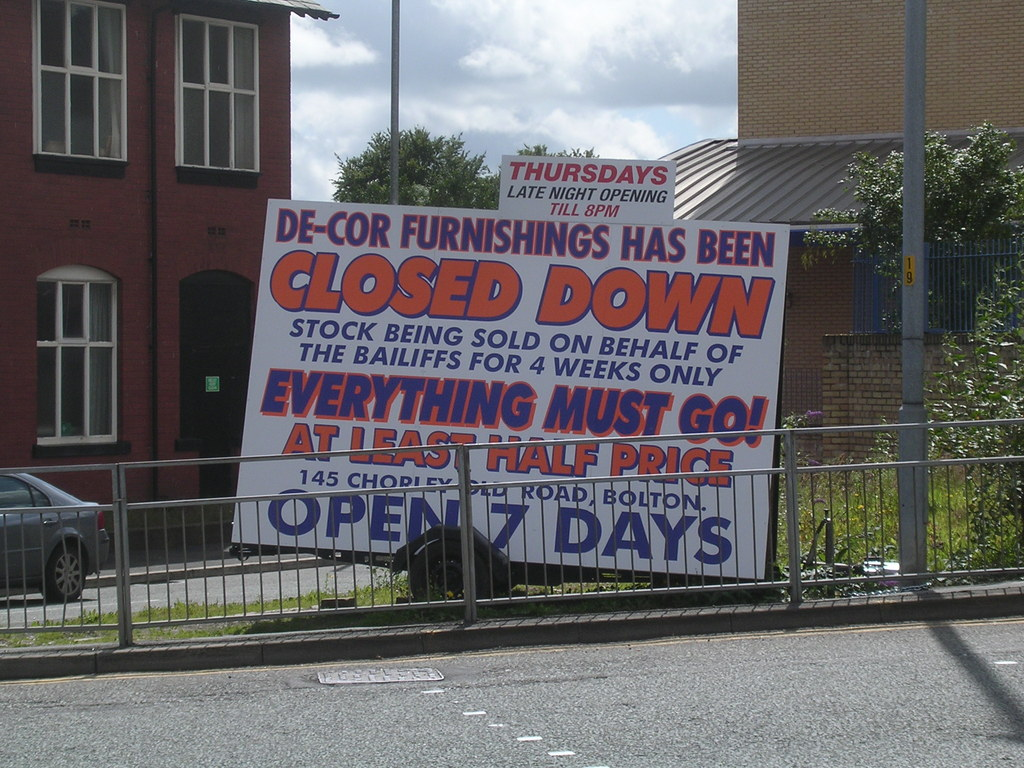Car: (0, 460, 118, 604)
